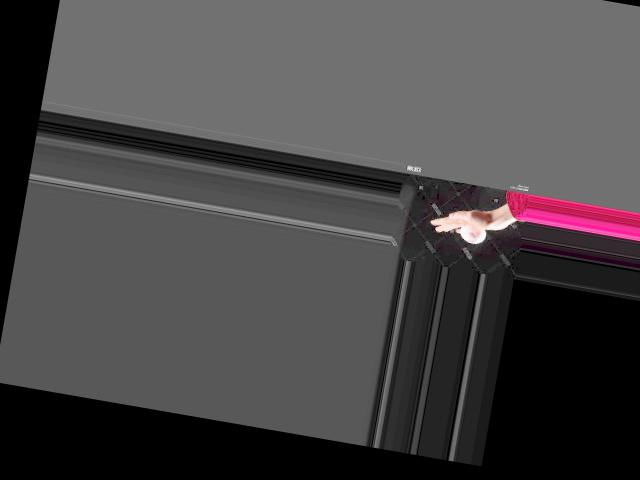egg: (459, 224, 488, 245)
